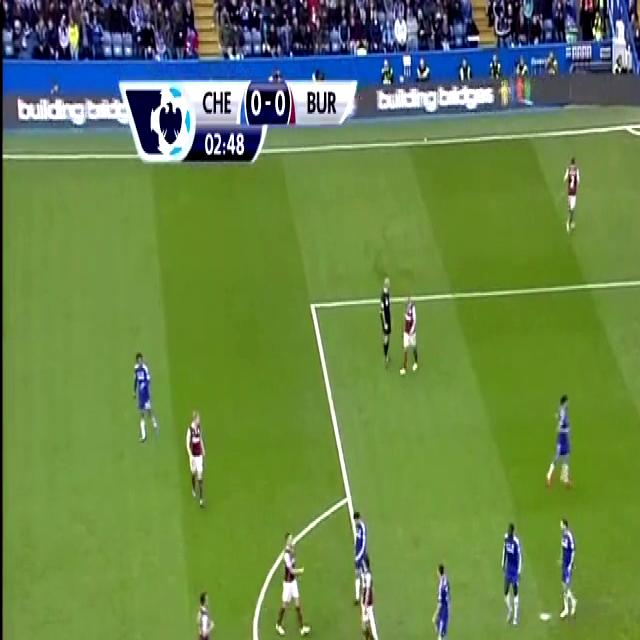referee: (378, 257, 396, 369)
soccer-player: (552, 516, 590, 620), (275, 535, 311, 640), (128, 342, 160, 446), (546, 391, 576, 492), (184, 409, 212, 511), (500, 513, 521, 640), (181, 581, 224, 640), (356, 562, 385, 640), (347, 504, 370, 594), (428, 551, 451, 640), (400, 290, 423, 378), (559, 150, 582, 231)
